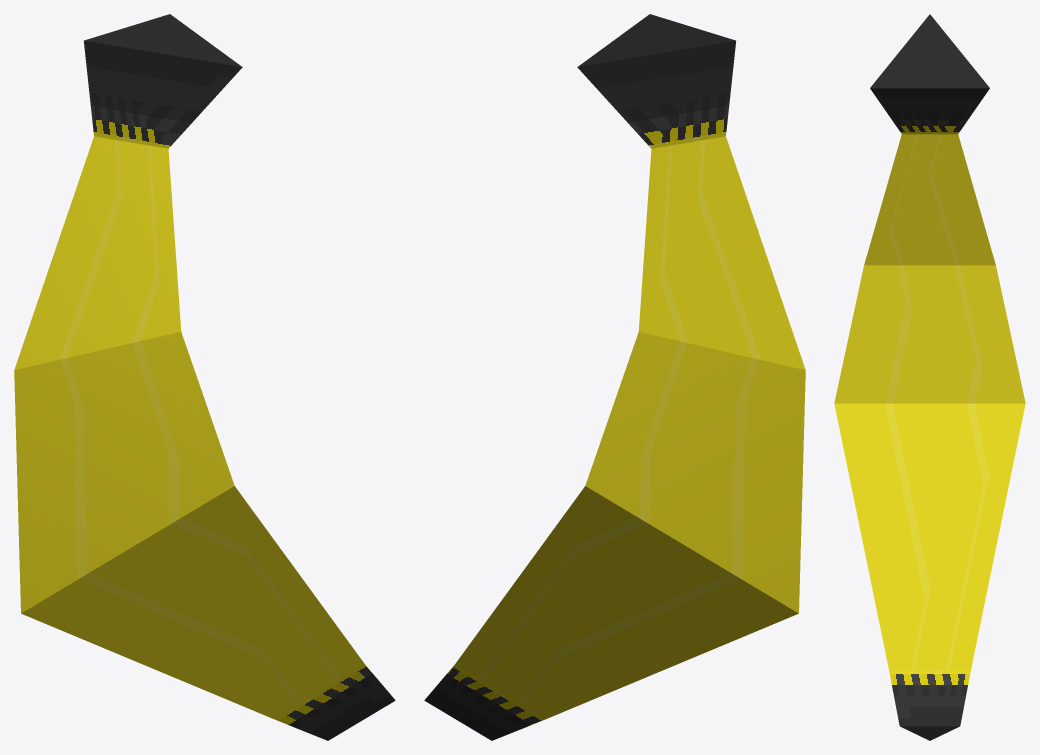
Rendered from Banana.fbx.
3 renders of one model, left to right at view 1: azimuth 30°, elevation 25°; view 2: azimuth 150°, elevation 25°; view 3: azimuth 270°, elevation 25°, orthographic. The views are drawn at different scales.
Visible parts, largest first — view 1: banana_bomb; view 2: banana_bomb; view 3: banana_bomb.
Part boxes in pixels (bbox=[...]): banana_bomb: bbox=[14, 14, 395, 740]; banana_bomb: bbox=[424, 14, 805, 740]; banana_bomb: bbox=[834, 14, 1025, 740].
Size of the model in its own units: 122 by 244 by 67.34.
